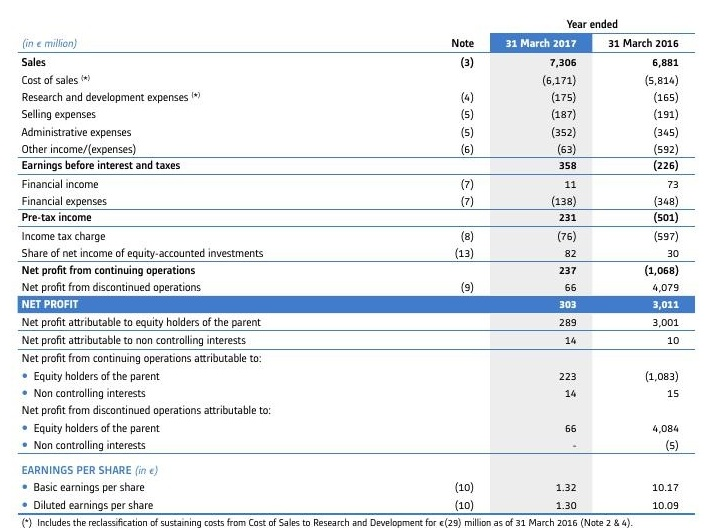table: (0, 0, 716, 528)
